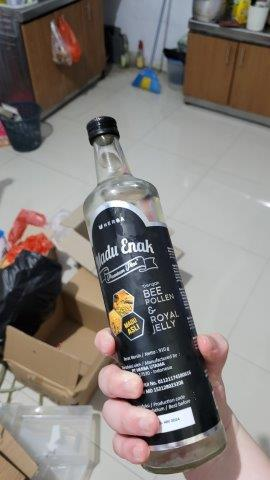botolkaca: (81, 117, 229, 473)
